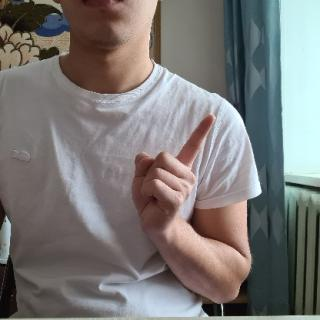RAA: (128, 107, 218, 249)
